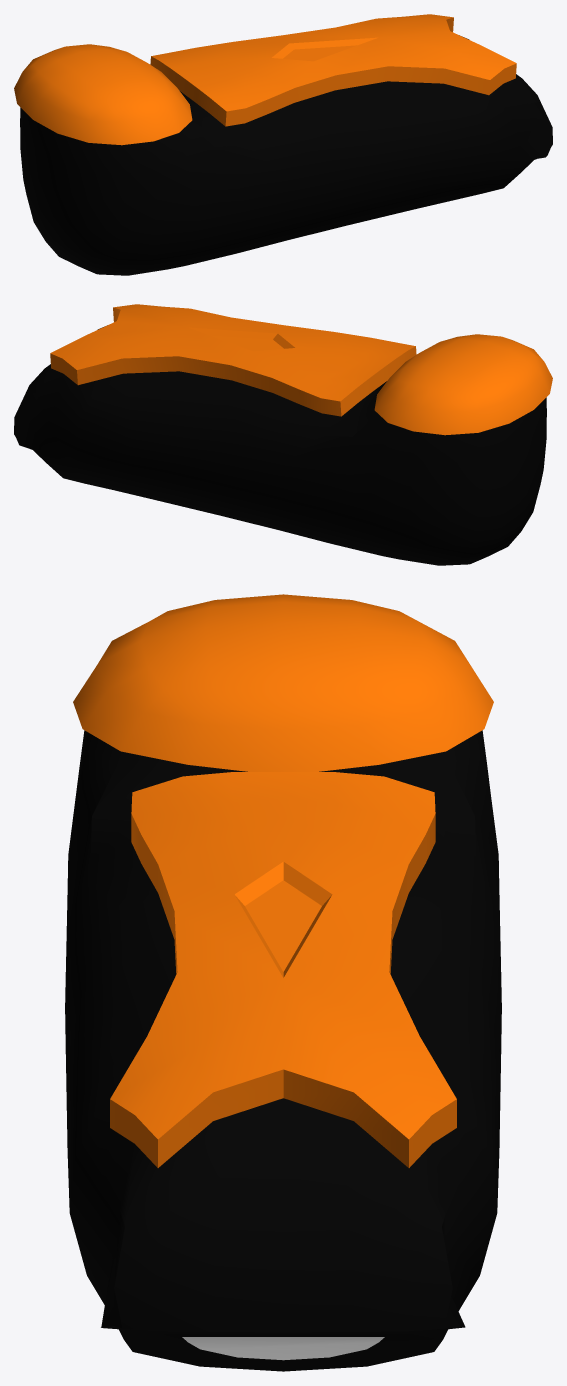
The model's file is new_simHand_id43.fbx.
3 views of the same model, one above another, from view 1: azimuth 30°, elevation 25°; view 2: azimuth 150°, elevation 25°; view 3: azimuth 270°, elevation 25° (orthographic). The views are drawn at different scales.
Parts seen in each view (by area): view 1: Cube.011; view 2: Cube.011; view 3: Cube.011.
Boxes of the visible parts, left/top/right/bottom form: Cube.011: left=14, top=14, right=552, bottom=275; Cube.011: left=14, top=304, right=552, bottom=565; Cube.011: left=65, top=594, right=501, bottom=1371.
Bounding box in the file's own units: 89.1 × 36.33 × 34.65.
